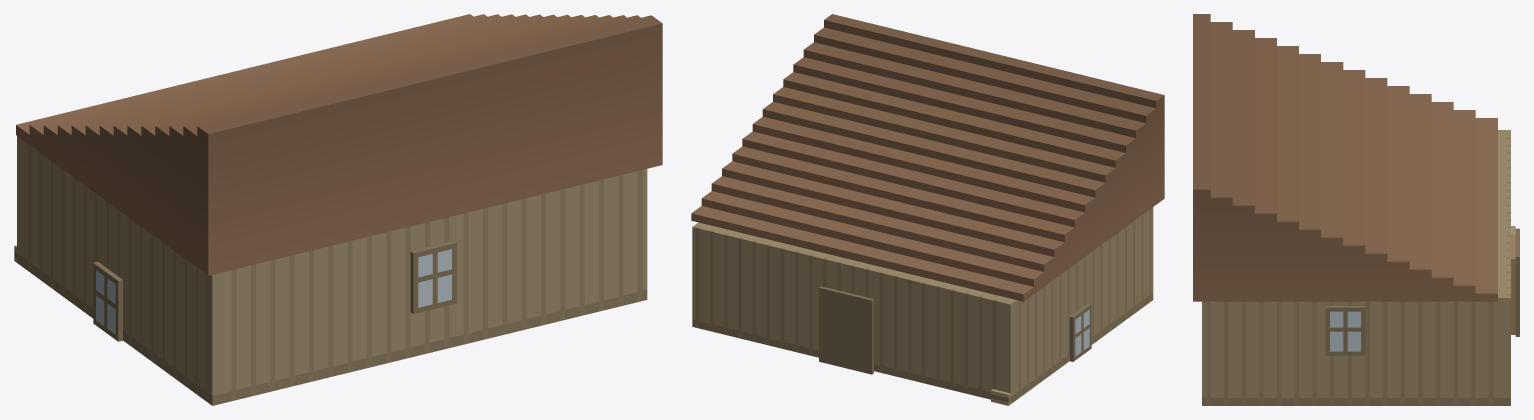
Rendered from molino_viento_04.glb.
3 renders of one model, left to right at view 1: azimuth 30°, elevation 25°; view 2: azimuth 150°, elevation 25°; view 3: azimuth 270°, elevation 25°, orthographic. The views are drawn at different scales.
Parts seen in each view (by area): view 1: molino_viento_04; view 2: molino_viento_04; view 3: molino_viento_04.
Boxes of the visible parts, x1,y1,x2,y2 form: molino_viento_04: (14,14,662,405); molino_viento_04: (691,14,1164,405); molino_viento_04: (1193,14,1519,405).
Size of the model in its own units: 9.4 by 5.5 by 7.4.
